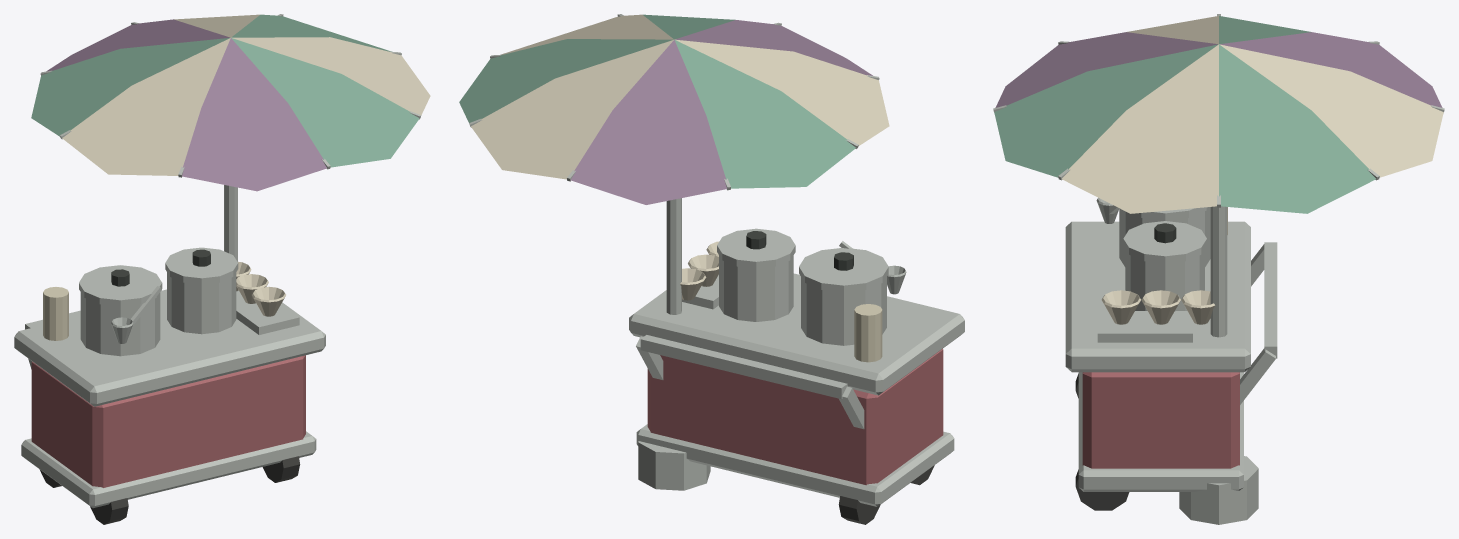
The model's file is pares-cart.glb.
The picture shows the model from 3 angles, left to right: view 1: azimuth 30°, elevation 25°; view 2: azimuth 150°, elevation 25°; view 3: azimuth 270°, elevation 25°; orthographic projection. The views are drawn at different scales.
Visible parts, largest first — view 1: pares-cart; view 2: pares-cart; view 3: pares-cart.
Boxes of the visible parts, <box> form: pares-cart: <box>14,14,430,524</box>; pares-cart: <box>459,14,964,524</box>; pares-cart: <box>993,14,1444,524</box>.
Size of the model in its own units: 2.5 by 2.57 by 2.27.
